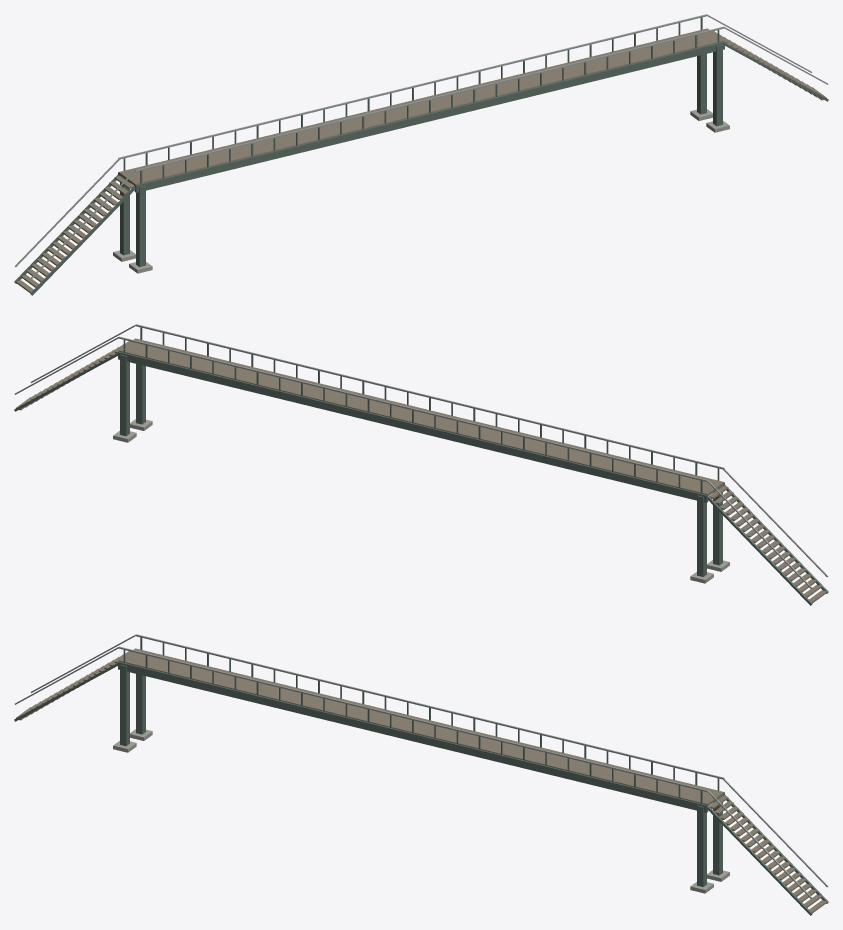
Rendered from forest-footbridge.glb.
3 renders of one model, top to bottom at view 1: azimuth 30°, elevation 25°; view 2: azimuth 150°, elevation 25°; view 3: azimuth 330°, elevation 25°, orthographic.
Visible parts, largest first — view 1: forest-footbridge; view 2: forest-footbridge; view 3: forest-footbridge.
Part boxes in pixels (x1,y1,x2,y2): forest-footbridge: (14,14,828,295); forest-footbridge: (14,324,828,605); forest-footbridge: (14,634,828,915).
Bounding box in the file's own units: 69.11 × 8.29 × 3.7.
